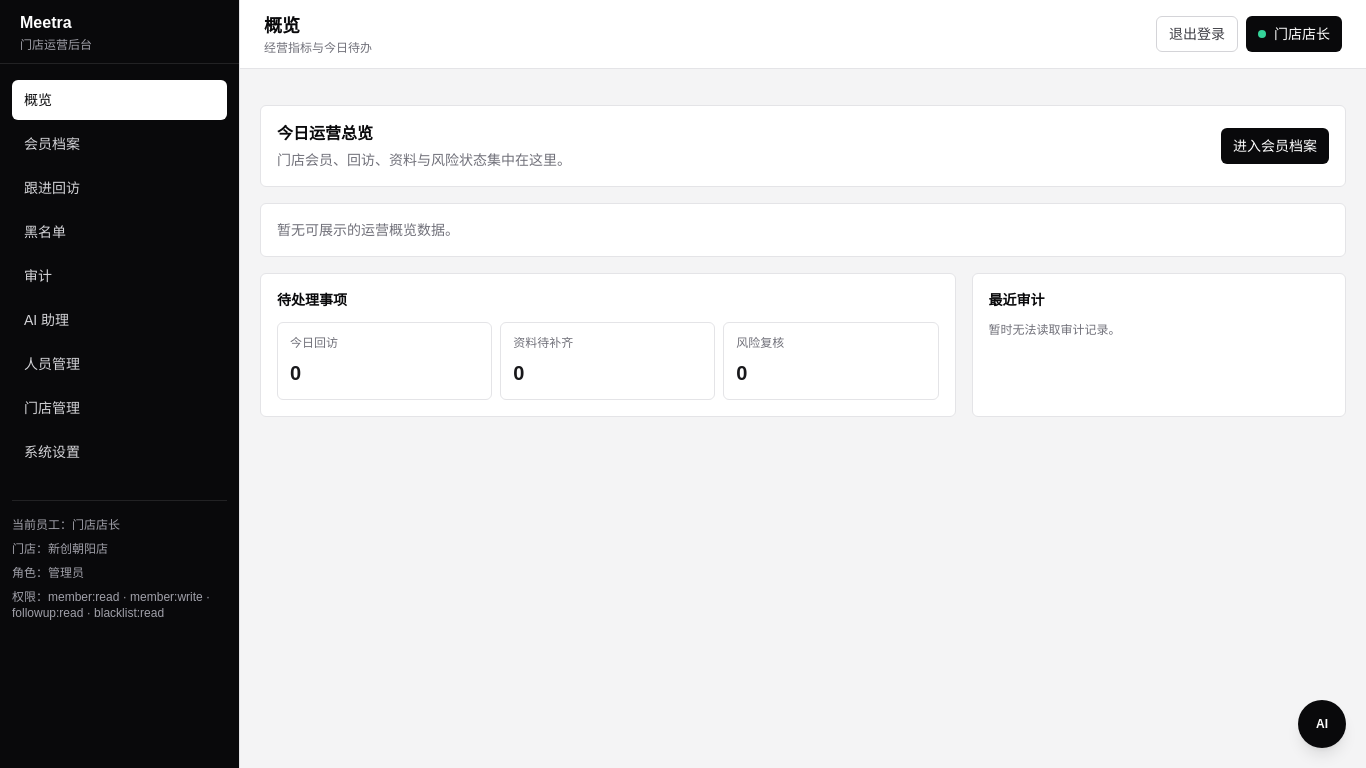
精简 V1 首页验收 › opens the same chat interaction from the floating assistant
This screenshot has width=1366, height=768.
Click the button with aria-label "打开 AI 助理": (1322, 724) x1=1298 y1=700 x2=1346 y2=748
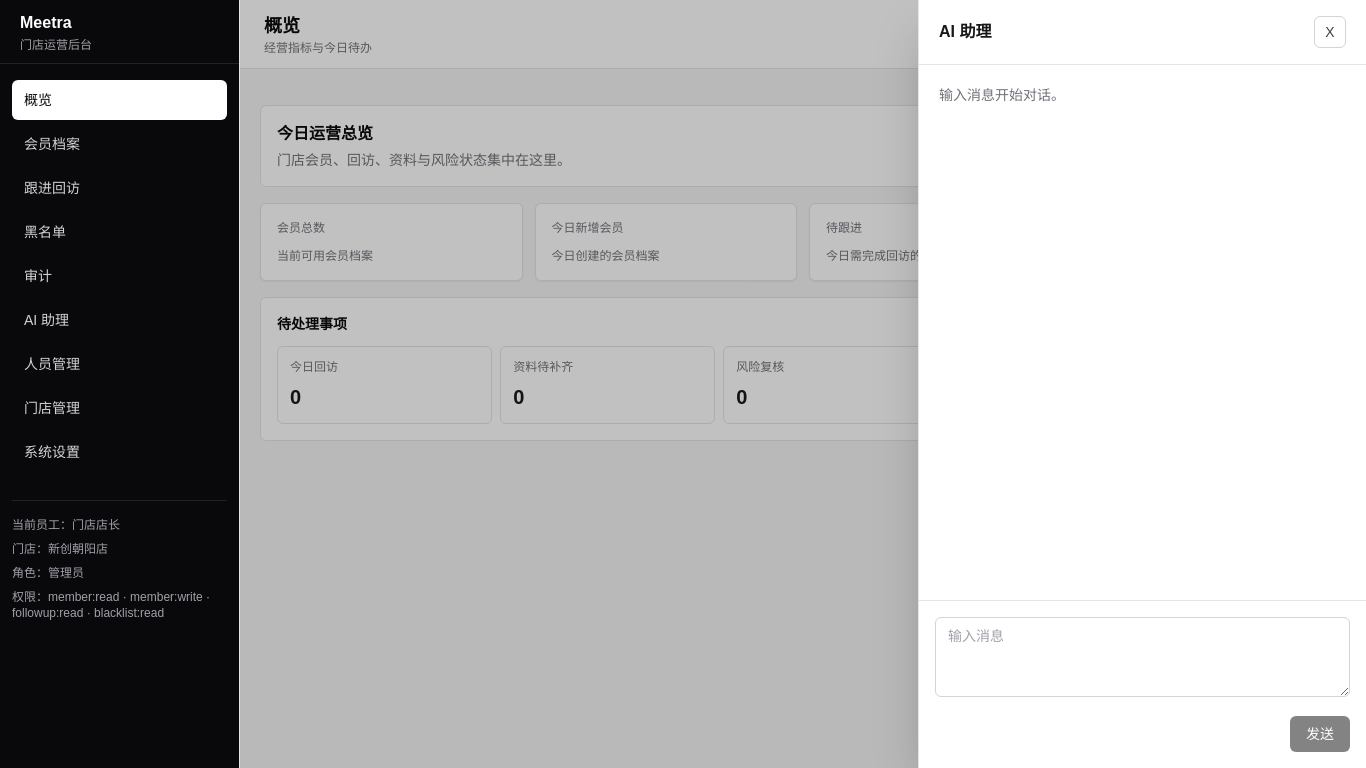
Check: the dialog "AI 助理" is shown
Check: the text box labelled "输入消息" is shown, box x1=935 y1=617 x2=1350 y2=697
